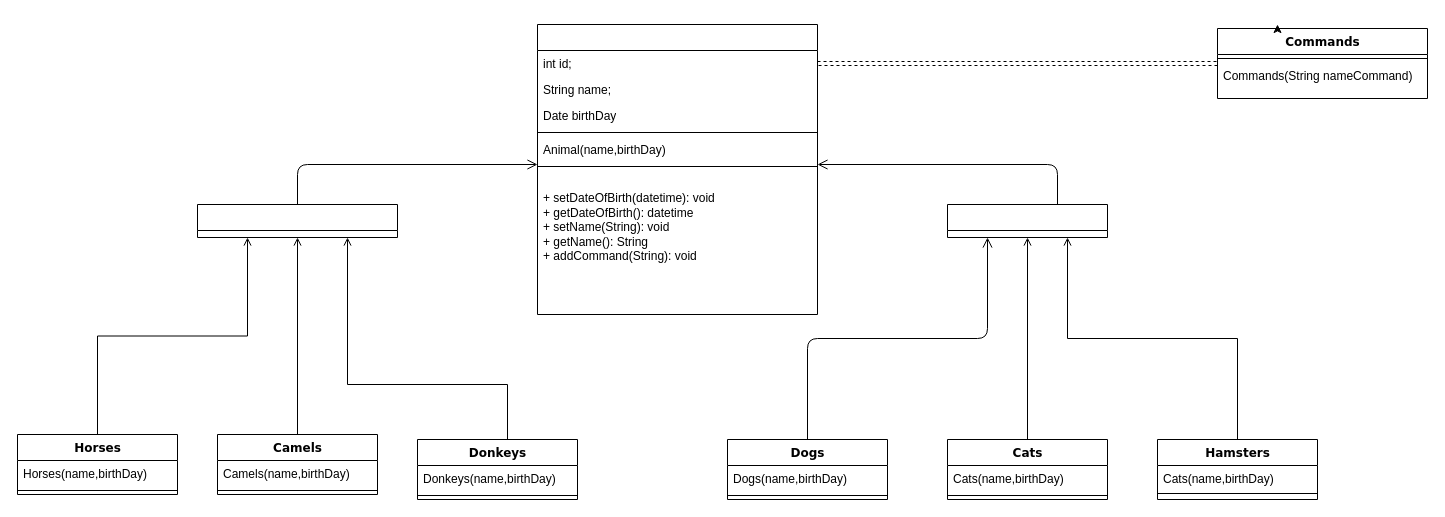
This 1445x517 diagram has some shape labels left out. Here are the shapes that lost their labels. From the top down, the box of each, then its label:
(536, 24, 818, 314): Class abstract Animals
(196, 204, 398, 238): Class abstract PackAnimals
(946, 204, 1108, 238): Class abstract Pets
